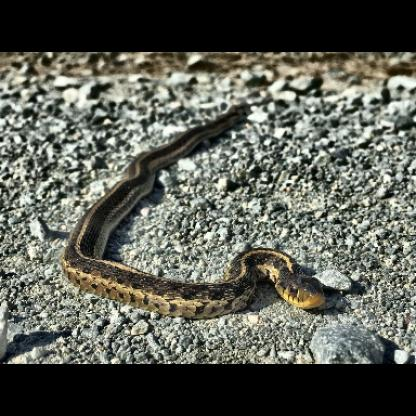Snake: (61, 95, 347, 335), (210, 240, 331, 324)
